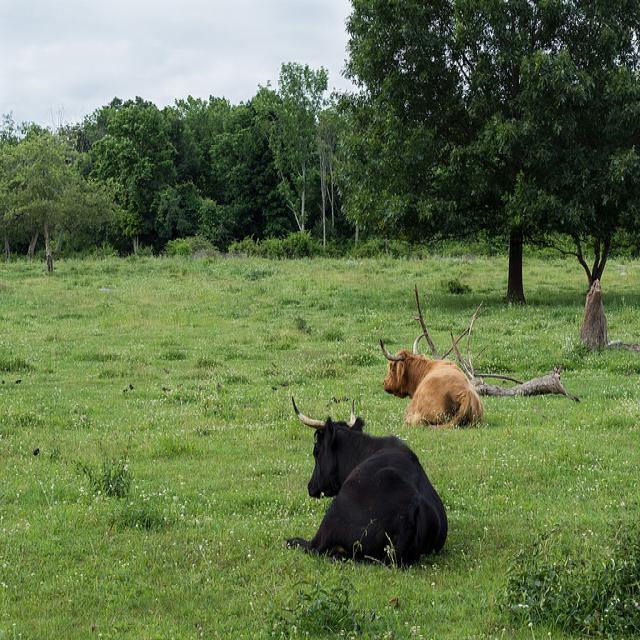cow: (278, 395, 449, 569), (377, 329, 482, 426)
